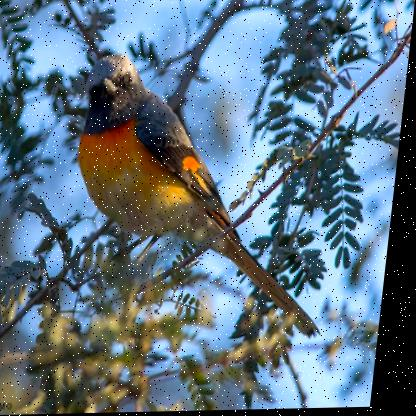Burung: (66, 49, 355, 345)
